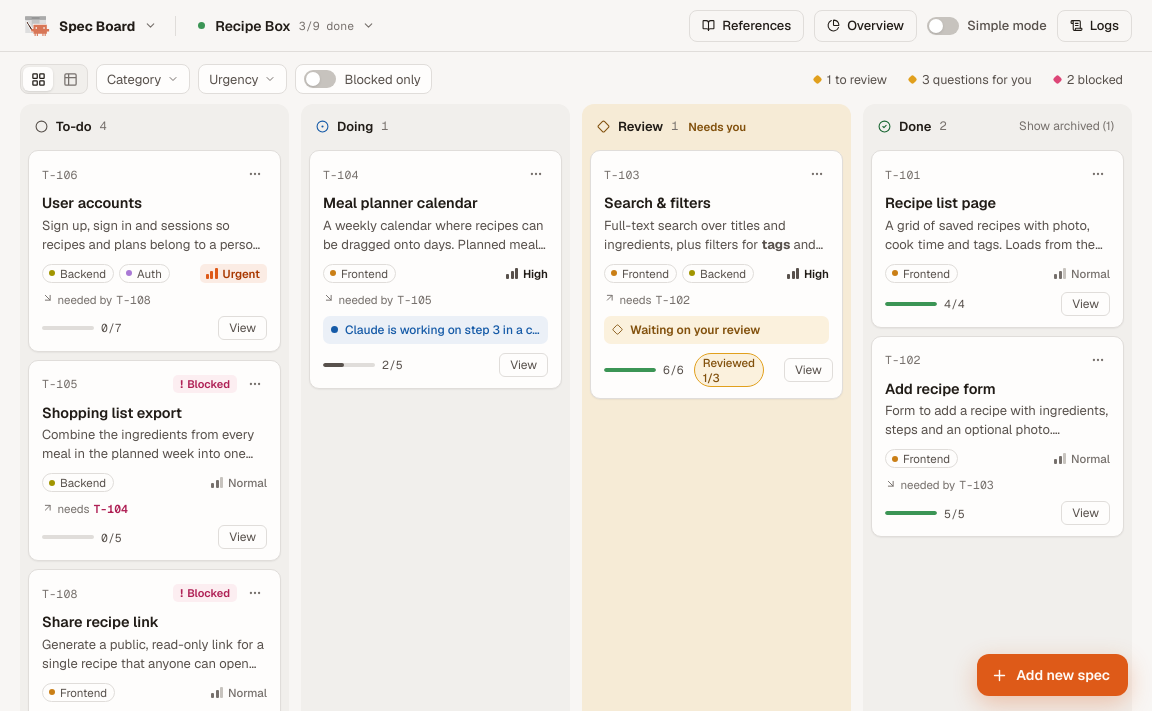
Test: App › the theme choice in Theme ▸ Light / Dark / System is applied and remembered
Press Enter in the button "Spec Board", box x1=20 y1=10 x2=165 y2=42
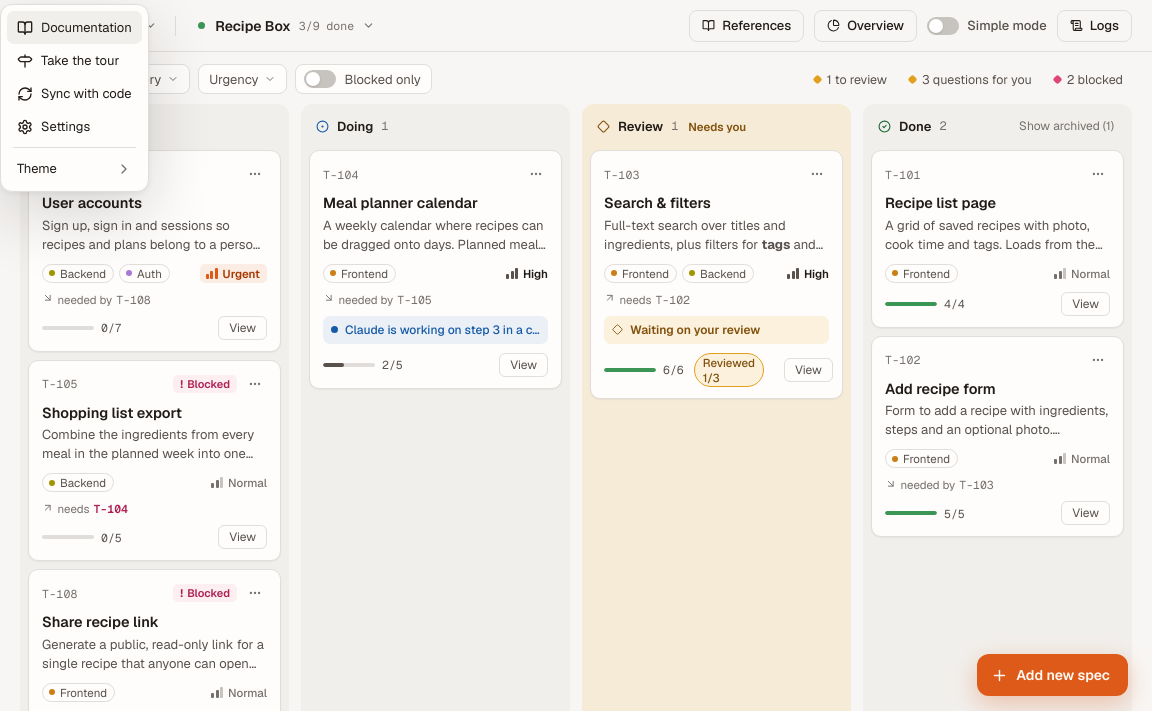
Click the menu item "Theme". click: (37, 168)
box: x1=17 y1=160 x2=132 y2=177
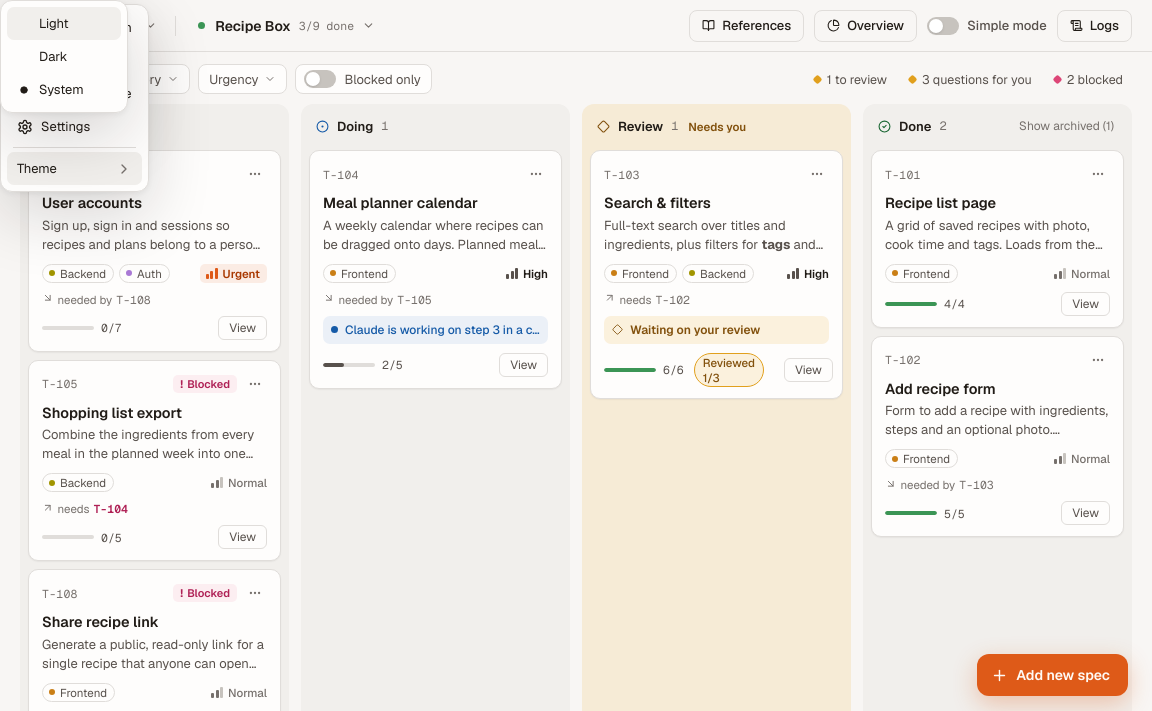
Click the menu item "Dark". click: (53, 56)
box: x1=39 y1=48 x2=68 y2=65
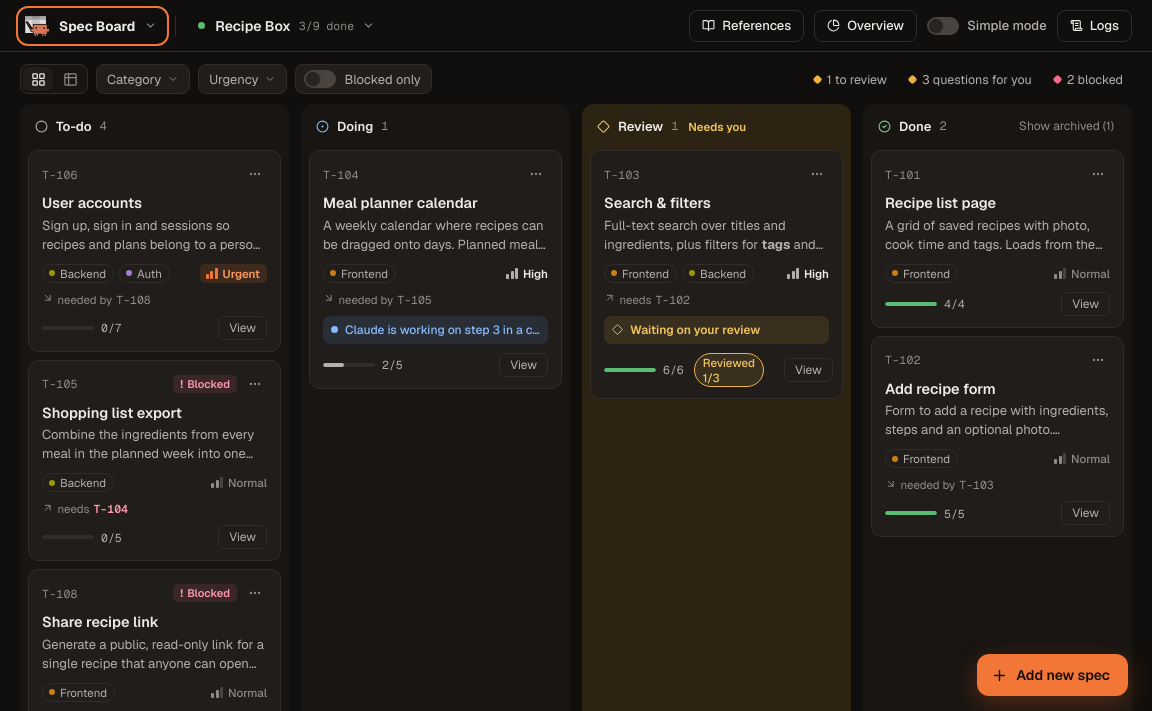
Check: the menu is gone
Press Enter in the button "Spec Board", box x1=20 y1=10 x2=165 y2=42
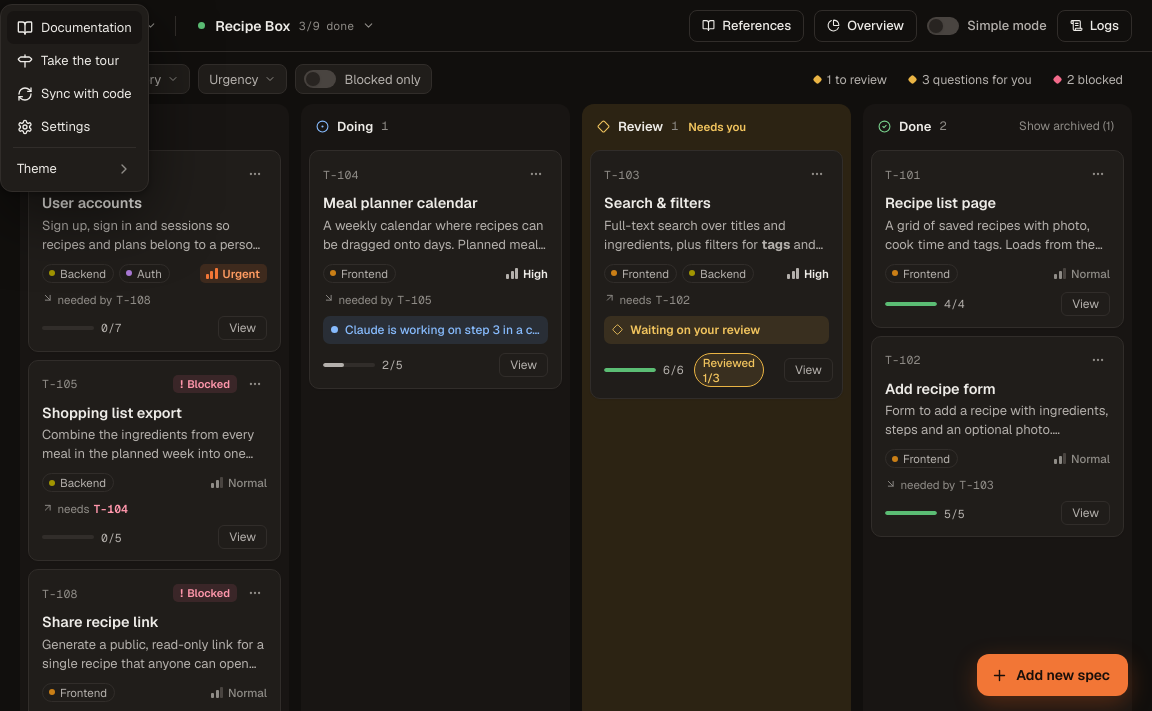
Click the menu item "Theme". click: (37, 168)
box: x1=17 y1=160 x2=132 y2=177
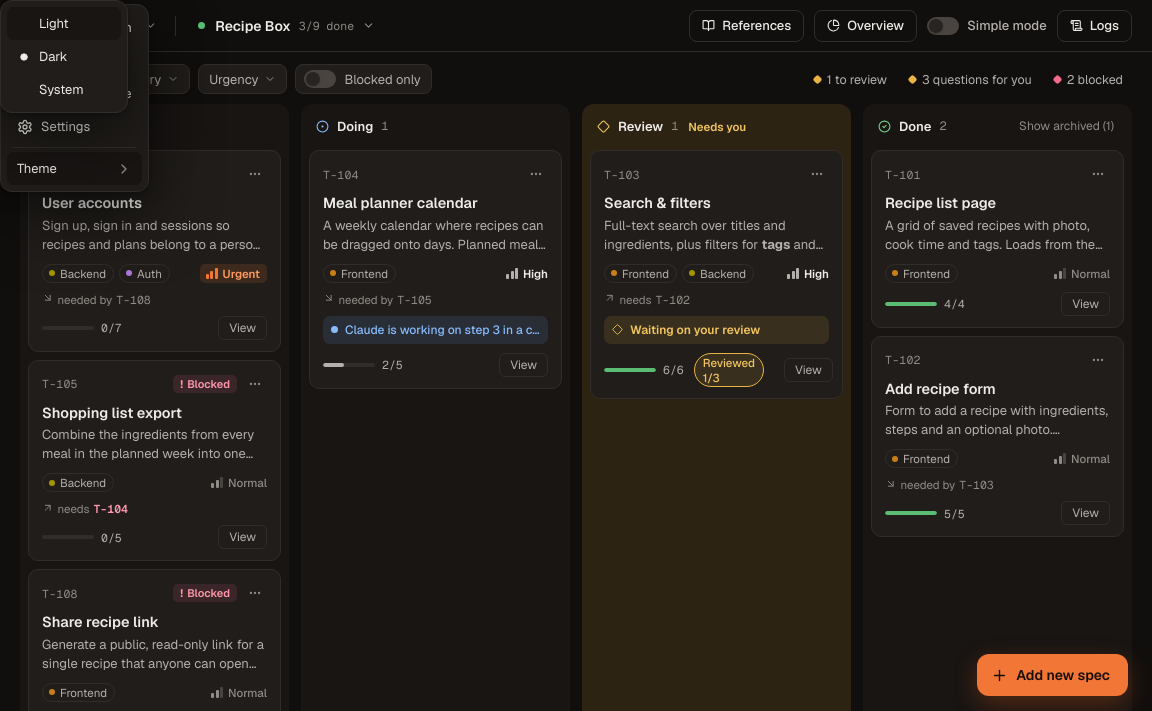
Click the menu item "Light". click: (64, 24)
box: x1=7 y1=7 x2=121 y2=40
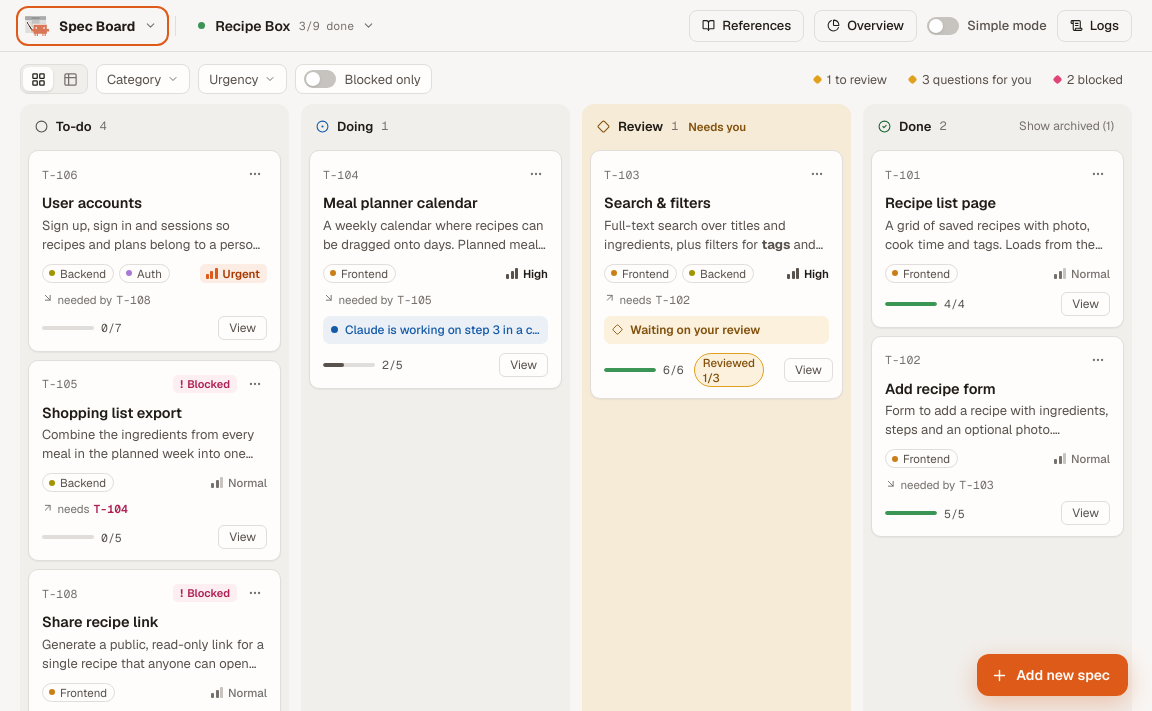
Check: the menu is gone
